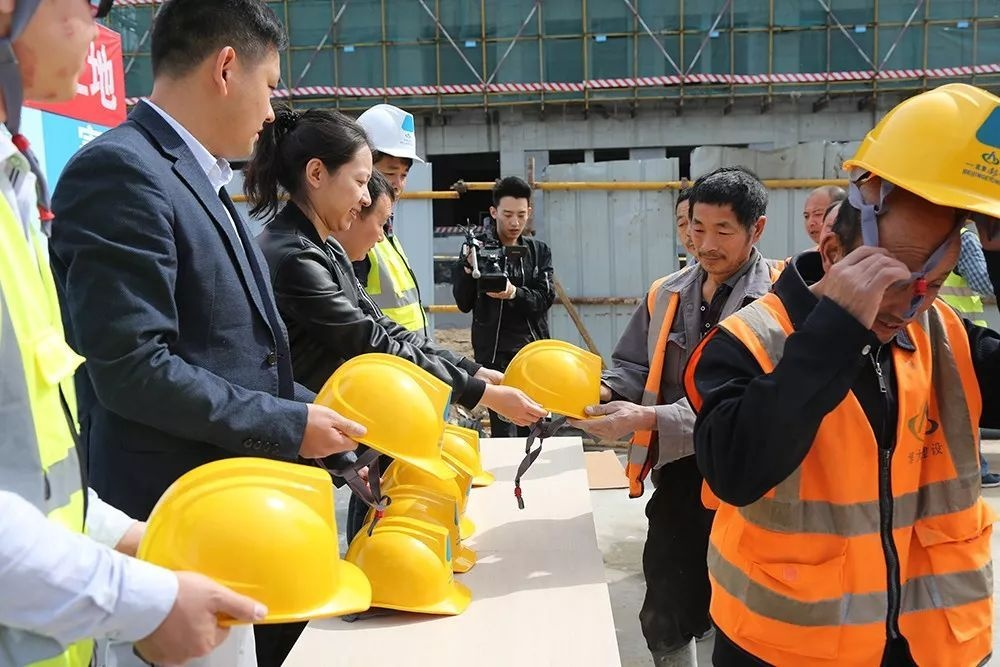none: (142, 3, 286, 161), (274, 106, 374, 234), (682, 162, 768, 277), (486, 174, 538, 236), (798, 182, 845, 242)
white: (358, 103, 418, 204)
yellow: (816, 98, 991, 332)
